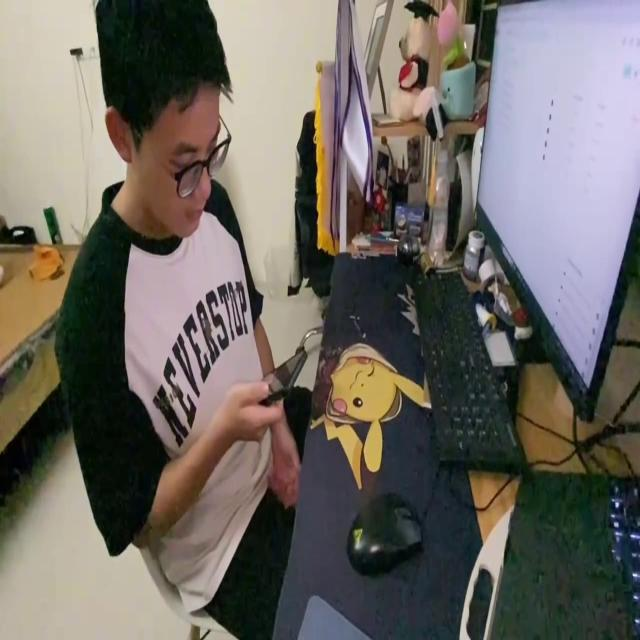laptop: (474, 0, 640, 433)
phone: (250, 340, 306, 402)
student: (56, 4, 314, 636)
